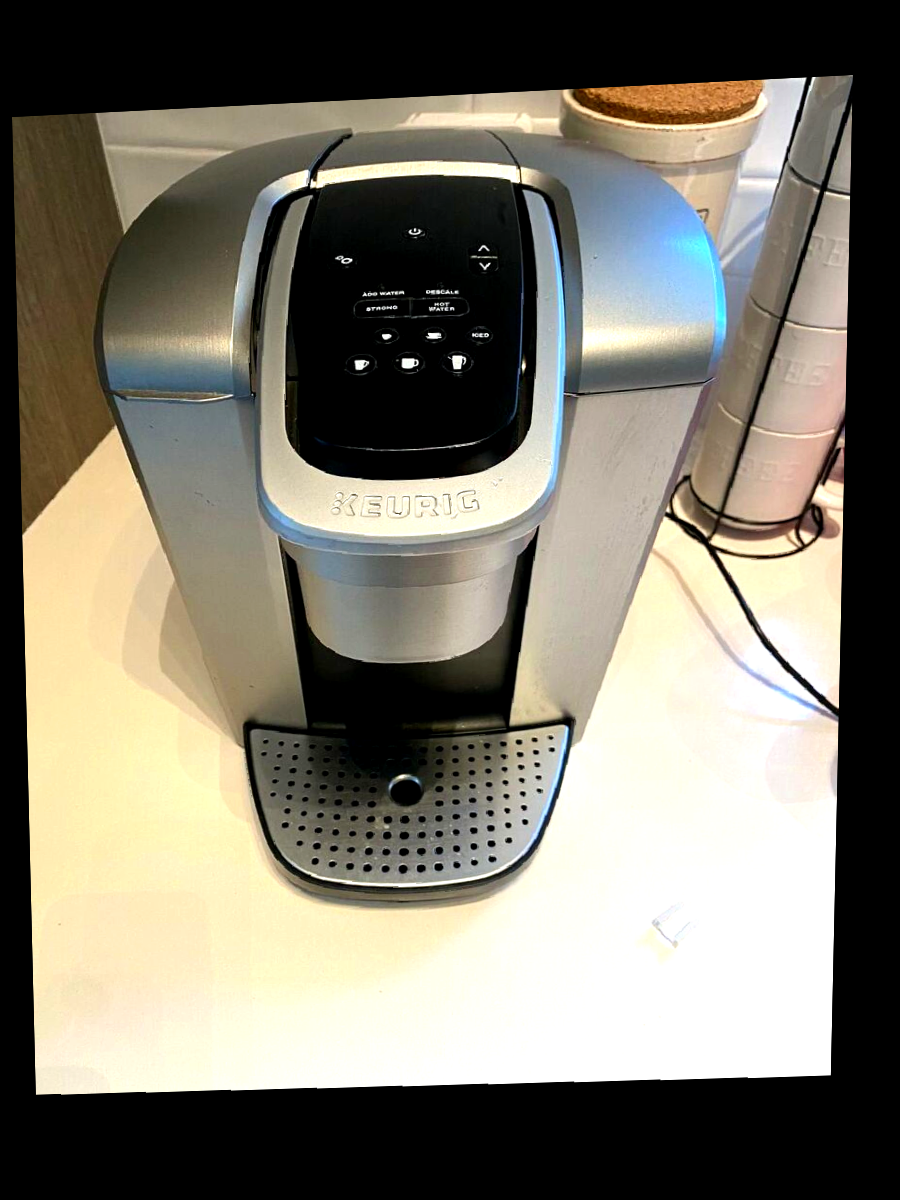10oz: (393, 349, 428, 375)
12oz: (439, 349, 475, 375)
4oz: (374, 326, 399, 346)
6oz: (421, 325, 446, 345)
8oz: (342, 352, 377, 378)
add_water: (347, 278, 410, 300)
descale: (409, 275, 473, 298)
hot: (410, 295, 474, 319)
iced: (468, 325, 494, 346)
power: (403, 223, 429, 242)
strong: (349, 298, 412, 319)
